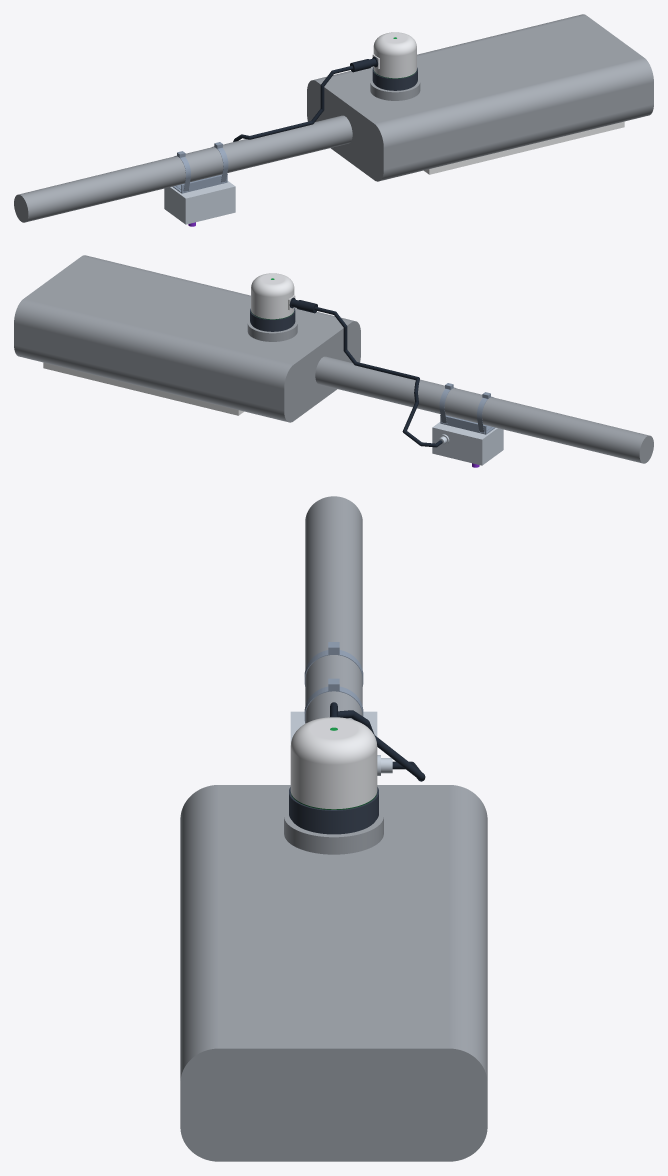
3 renders of one model, top to bottom at view 1: azimuth 30°, elevation 25°; view 2: azimuth 150°, elevation 25°; view 3: azimuth 270°, elevation 25°, orthographic. The views are drawn at different scales.
Visible parts, largest first — view 1: Existing luminaire, receptacle and arm, Sensor head enclosure, Dome cover, UV-stable, Luminaire lens, M12 port and cable, Arm band clamps, Twist-lock base, 7-contact; view 2: Existing luminaire, receptacle and arm, Sensor head enclosure, Dome cover, UV-stable, M12 port and cable, Luminaire lens, Arm band clamps, Twist-lock base, 7-contact; view 3: Existing luminaire, receptacle and arm, Dome cover, UV-stable, Twist-lock base, 7-contact, M12 port and cable, Arm band clamps.
Boxes of the visible parts, left/top/right/bottom form: Existing luminaire, receptacle and arm: left=14, top=14, right=653, bottom=222; Sensor head enclosure: left=164, top=181, right=235, bottom=224; Dome cover, UV-stable: left=372, top=32, right=416, bottom=78; Luminaire lens: left=424, top=121, right=624, bottom=174; M12 port and cable: left=233, top=56, right=378, bottom=141; Arm band clamps: left=172, top=142, right=228, bottom=193; Twist-lock base, 7-contact: left=372, top=67, right=417, bottom=90; Existing luminaire, receptacle and arm: left=14, top=255, right=653, bottom=463; Sensor head enclosure: left=432, top=422, right=503, bottom=465; Dome cover, UV-stable: left=251, top=273, right=295, bottom=319; M12 port and cable: left=289, top=297, right=442, bottom=447; Luminaire lens: left=43, top=362, right=243, bottom=415; Arm band clamps: left=439, top=383, right=495, bottom=434; Twist-lock base, 7-contact: left=250, top=308, right=295, bottom=331; Existing luminaire, receptacle and arm: left=180, top=496, right=487, bottom=1161; Dome cover, UV-stable: left=290, top=717, right=377, bottom=809; Twist-lock base, 7-contact: left=289, top=787, right=378, bottom=834; M12 port and cable: left=330, top=702, right=425, bottom=781; Arm band clamps: left=304, top=642, right=363, bottom=722.
Size of the model in its own units: 1.43 by 0.305 by 0.32.
